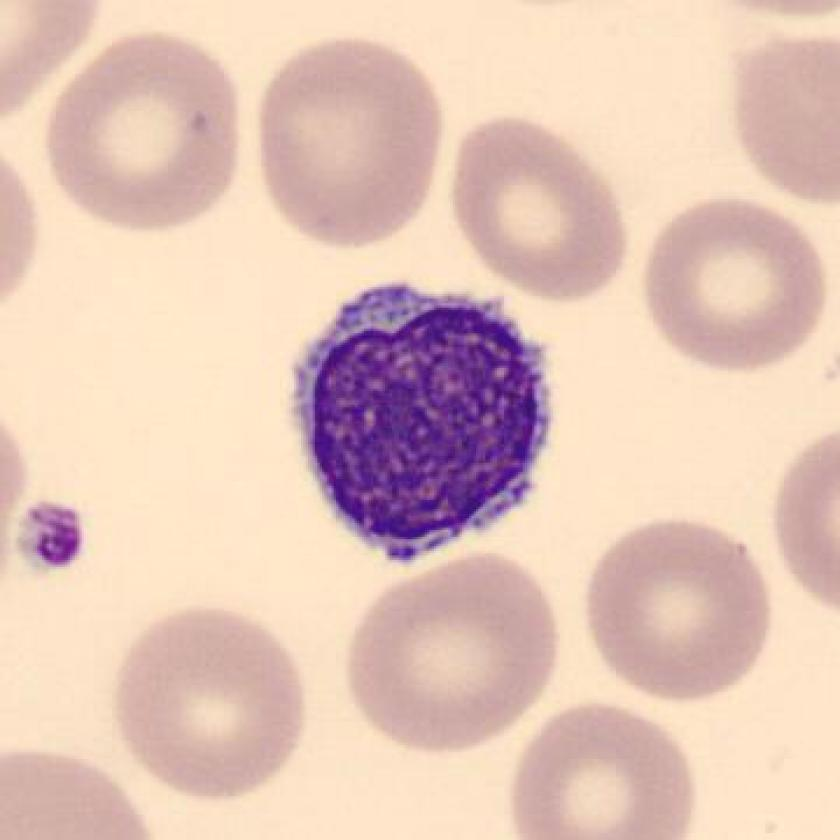lymphocyte: (272, 272, 568, 582)
platelets: (13, 493, 96, 583)
